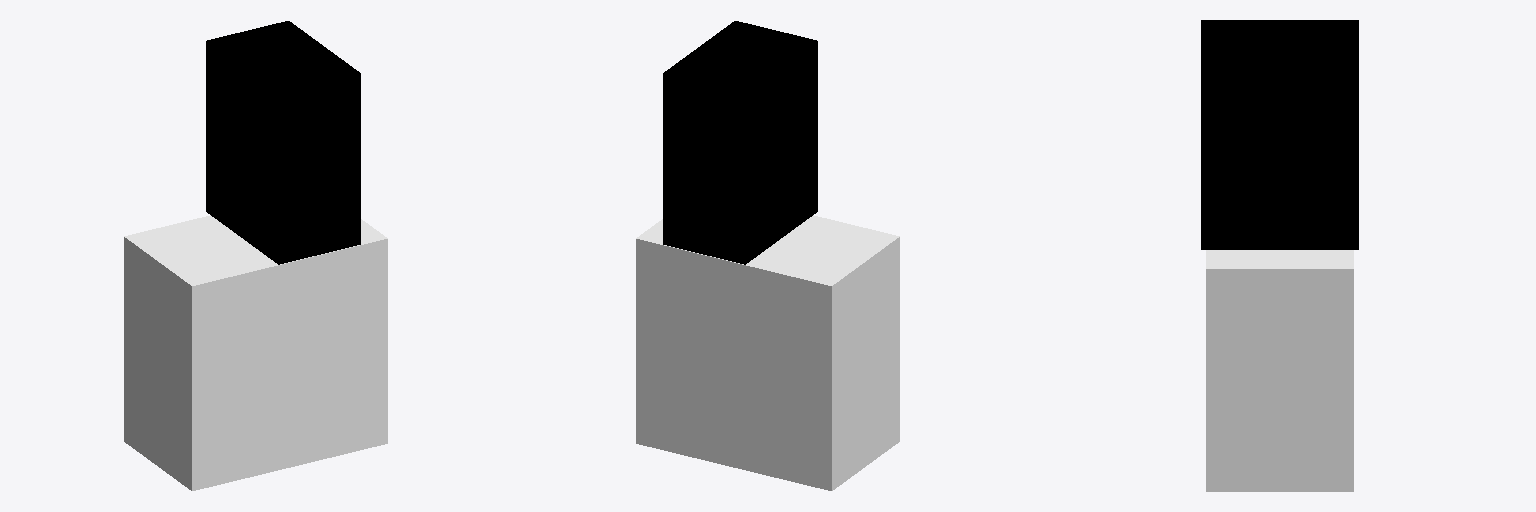
The robot description file, URDF, robot "simple_pan_tilt":
<?xml version="1.0"?>
<robot name = "simple_pan_tilt">

  <material name = "black">
    <color rgba = "0 0 0 1"/>
  </material>

  <material name = "white">
    <color rgba = "1 1 1 1"/>
  </material>

  <link name = "base_link">
    <visual>
      <geometry>
        <box size = "0.078 0.047 0.078"/>
      </geometry>
      <material name = "white"/>
    </visual>
    <collision>
      <geometry>
        <box size = "0.078 0.047 0.078"/>
      </geometry>
    </collision>
  </link>

  <link name="top_servo_link">
    <visual>
      <geometry>
        <box size = "0.033 0.05 0.065"/>
      </geometry>
      <origin rpy = "0 0 0" xyz="0.011 0.0 0.0725"/>
      <material name = "black"/>
    </visual>
    <collision>
      <geometry>
        <box size = "0.033 0.05 0.065"/>
      </geometry>
    </collision>
  </link>

  <joint name = "base_to_top_servo" type ="revolute">
    <axis xyz = "0 0 1"/>
    <limit effort = "1000.0" lower = "-1.57" upper = "1.57" velocity = "0.5"/>
    <parent link = "base_link"/>
    <child link = "top_servo_link"/>
  </joint>

  </robot>

--- Facts derived from the render (not from the file) ---
3 views of the same robot in one strip: view 1: azimuth 30°, elevation 25°; view 2: azimuth 150°, elevation 25°; view 3: azimuth 270°, elevation 25° (orthographic).
Model simple_pan_tilt with 2 links and 1 joints (1 revolute), rooted at base_link, posed every joint at zero.
Links seen in each view (by area): view 1: base_link, top_servo_link; view 2: base_link, top_servo_link; view 3: top_servo_link, base_link.
Boxes of the visible links, bbox=[...] form: base_link: bbox=[124, 215, 387, 490]; top_servo_link: bbox=[206, 21, 360, 264]; base_link: bbox=[636, 215, 899, 490]; top_servo_link: bbox=[663, 21, 817, 264]; top_servo_link: bbox=[1201, 20, 1358, 249]; base_link: bbox=[1206, 250, 1353, 491].
Bounding box of the posed robot: 0.078 × 0.05 × 0.144 m (x, y, z).
Geometry: primitives only (box / cylinder / sphere), no mesh files.